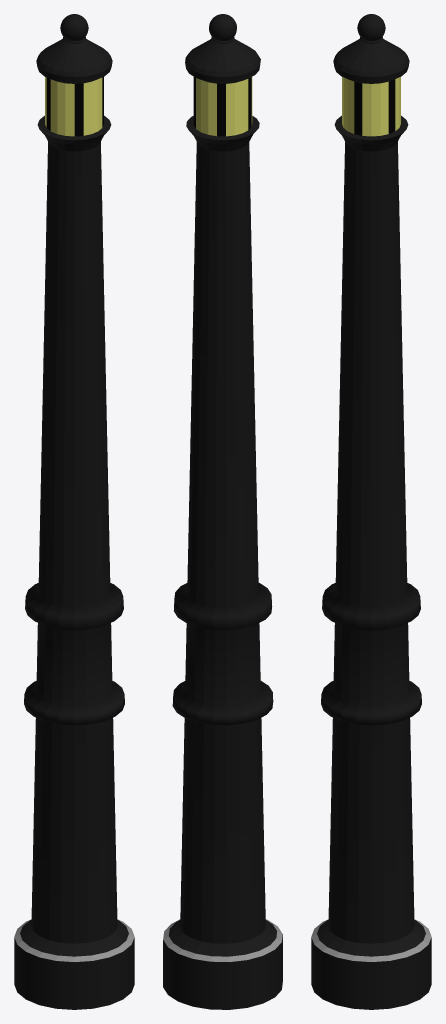
File: StreetLamp1.fbx
3 views of the same model, side by side, from view 1: azimuth 90°, elevation 25°; view 2: azimuth 150°, elevation 25°; view 3: azimuth 270°, elevation 25° (orthographic).
Visible parts, largest first — view 1: pCylinder2; view 2: pCylinder2; view 3: pCylinder2.
Boxes of the visible parts, x1,y1,x2,y2 form: pCylinder2: [14, 14, 134, 1009]; pCylinder2: [163, 14, 282, 1009]; pCylinder2: [311, 14, 431, 1009].
Bounding box in the file's own units: 0.5178 × 4.6 × 0.5178.
